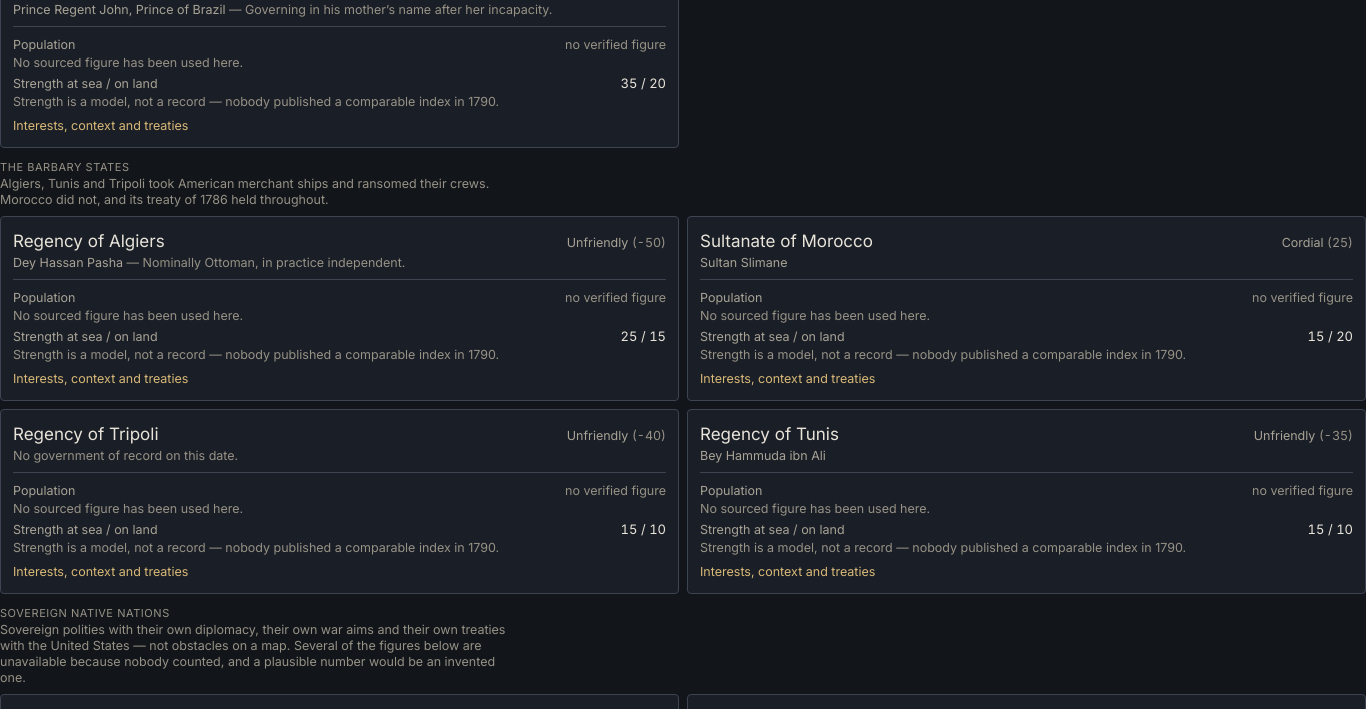
Test: treaties › offers a signable treaty with its full price on the button
(page scrolled)
Click the button "Interests, context and treaties" below "Dey".
click(101, 379)  # box x1=13 y1=371 x2=188 y2=387
(page scrolled)
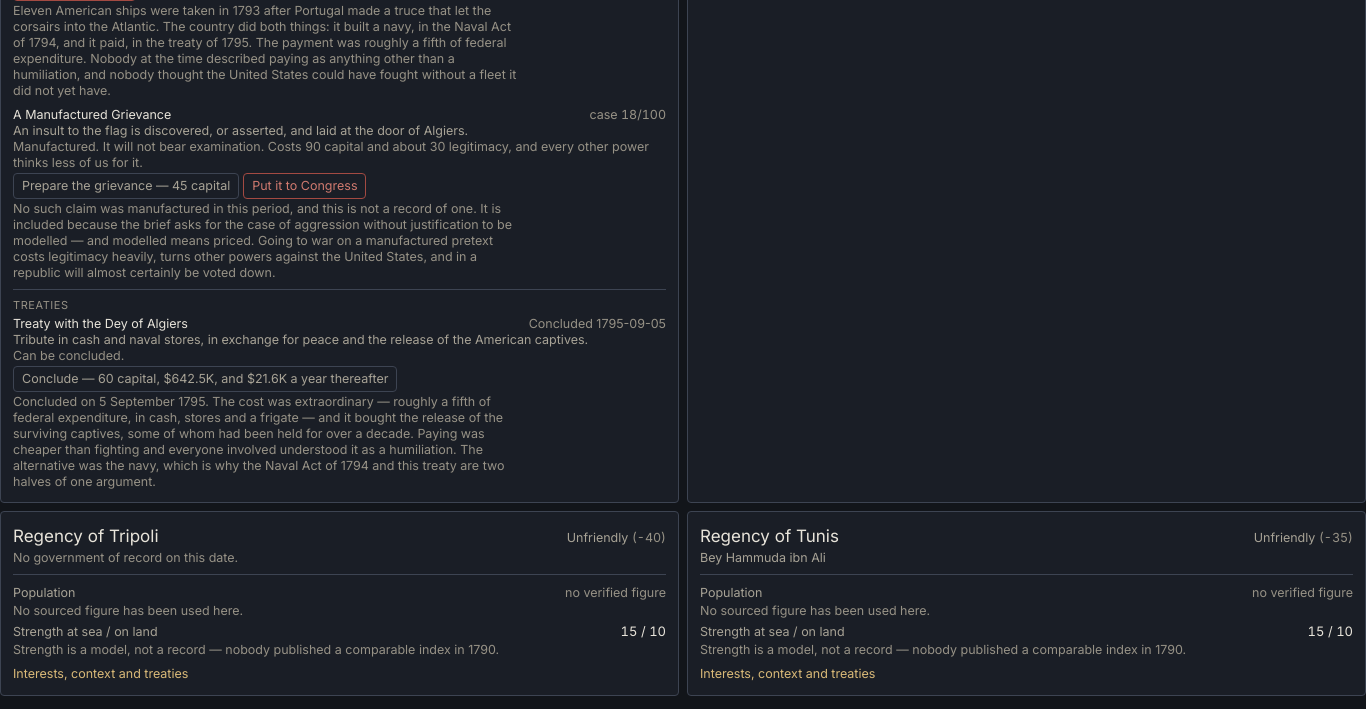
Result: the button "Conclude — 60 capital, $642.5K, and $21.6K a year thereafter" is shown at x1=13 y1=366 x2=397 y2=392
